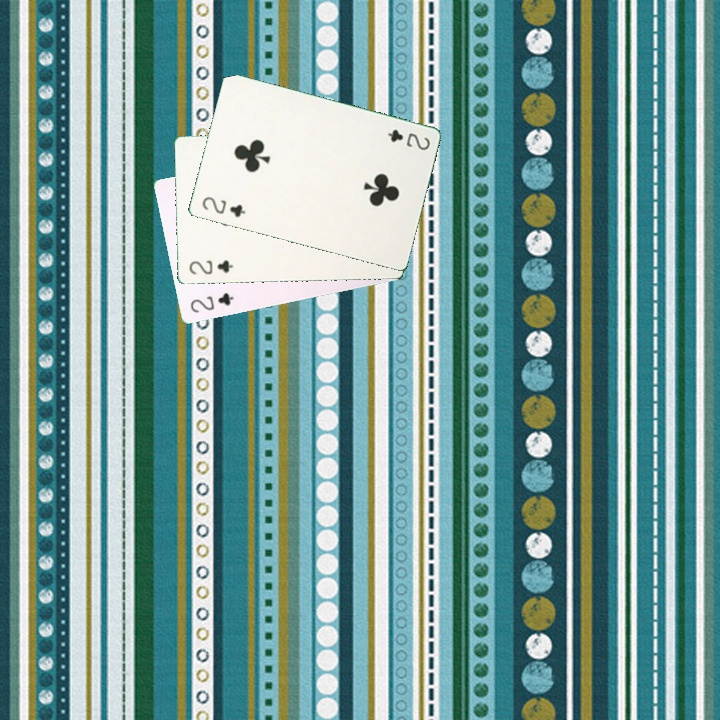2c: (198, 192, 248, 220), (383, 125, 433, 153), (186, 289, 236, 315), (185, 256, 236, 277)
